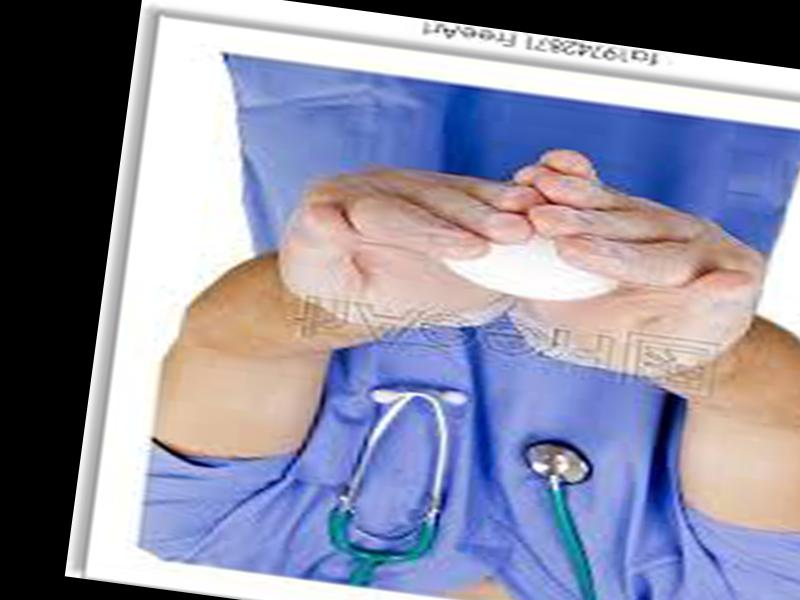Eggs: (437, 218, 618, 309)
